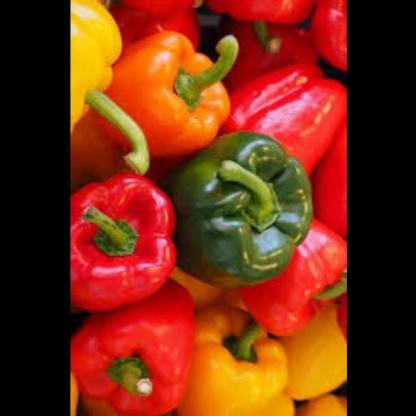bell pepper: (181, 94, 312, 288), (71, 156, 184, 312), (71, 275, 193, 416), (109, 25, 237, 153), (224, 60, 347, 177), (189, 290, 302, 416), (251, 206, 347, 345), (71, 0, 136, 146), (196, 0, 320, 56), (298, 1, 348, 80), (295, 343, 347, 416)
